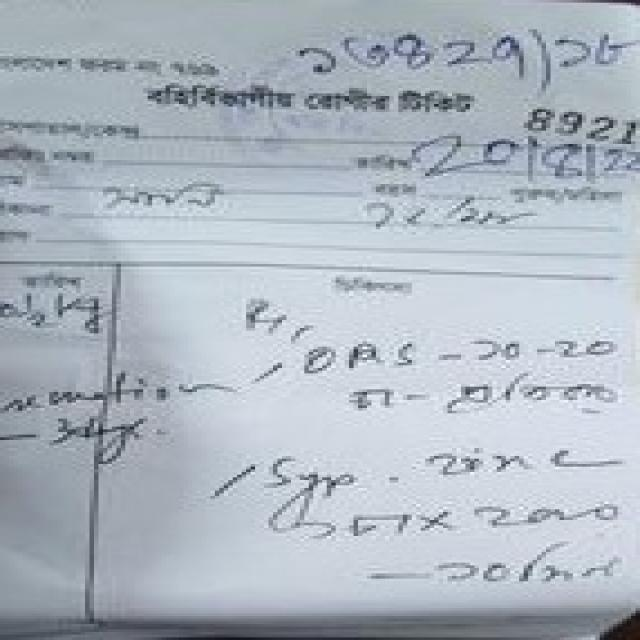ORS: (280, 332, 439, 385)
Zinc: (412, 430, 607, 485)
